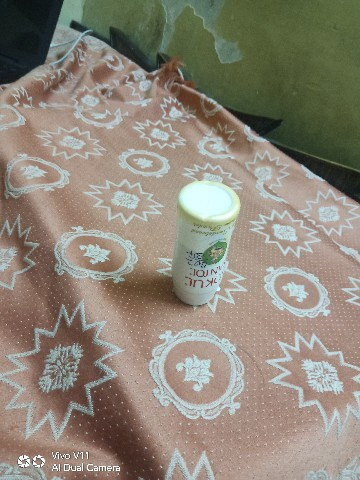gokulsantol small: (151, 170, 250, 314)
